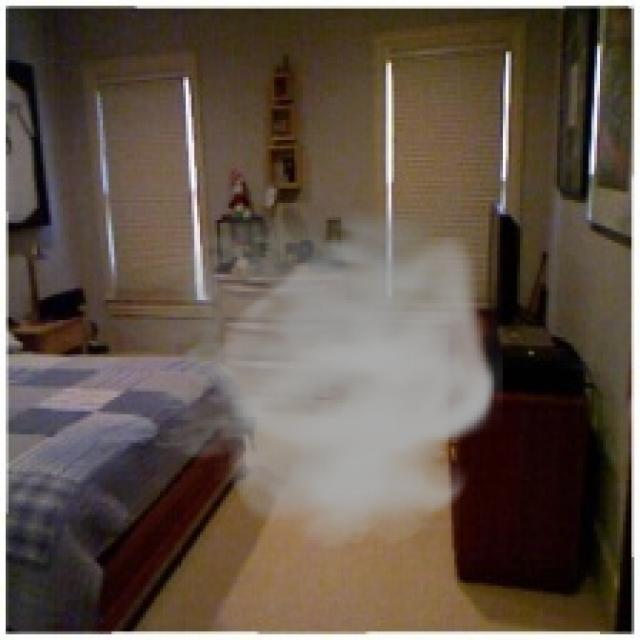smoke: (114, 188, 503, 548)
